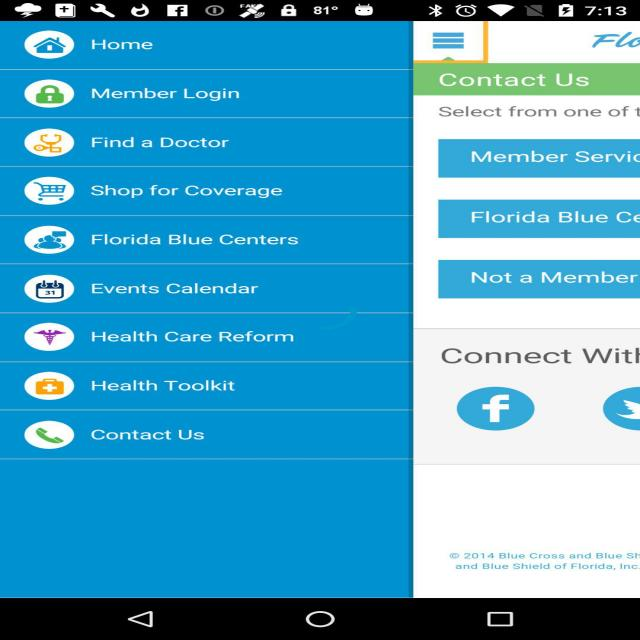button: (1, 167, 414, 218), (0, 408, 412, 459), (0, 313, 415, 362), (0, 20, 412, 69), (0, 217, 414, 265), (2, 70, 415, 118), (0, 265, 412, 313), (0, 120, 412, 167), (0, 362, 412, 409), (437, 259, 640, 300), (436, 138, 640, 178), (436, 199, 640, 239), (449, 384, 544, 434), (412, 19, 494, 62), (592, 381, 640, 436)
icon: (454, 386, 540, 432), (592, 380, 640, 434), (12, 223, 84, 258), (15, 27, 81, 62), (17, 369, 83, 404), (18, 319, 81, 355), (18, 419, 82, 454), (14, 127, 81, 160), (17, 77, 81, 111), (17, 174, 81, 208), (18, 272, 81, 306), (429, 29, 468, 52)
text: (442, 548, 640, 576), (435, 102, 640, 127), (87, 231, 307, 254), (86, 327, 302, 349), (434, 344, 640, 367), (88, 182, 287, 204), (87, 279, 262, 302), (436, 69, 599, 91), (468, 146, 640, 166), (89, 132, 232, 156), (85, 84, 245, 105), (468, 208, 640, 226), (88, 423, 207, 448), (87, 377, 241, 396), (469, 269, 639, 286), (85, 36, 163, 56)
